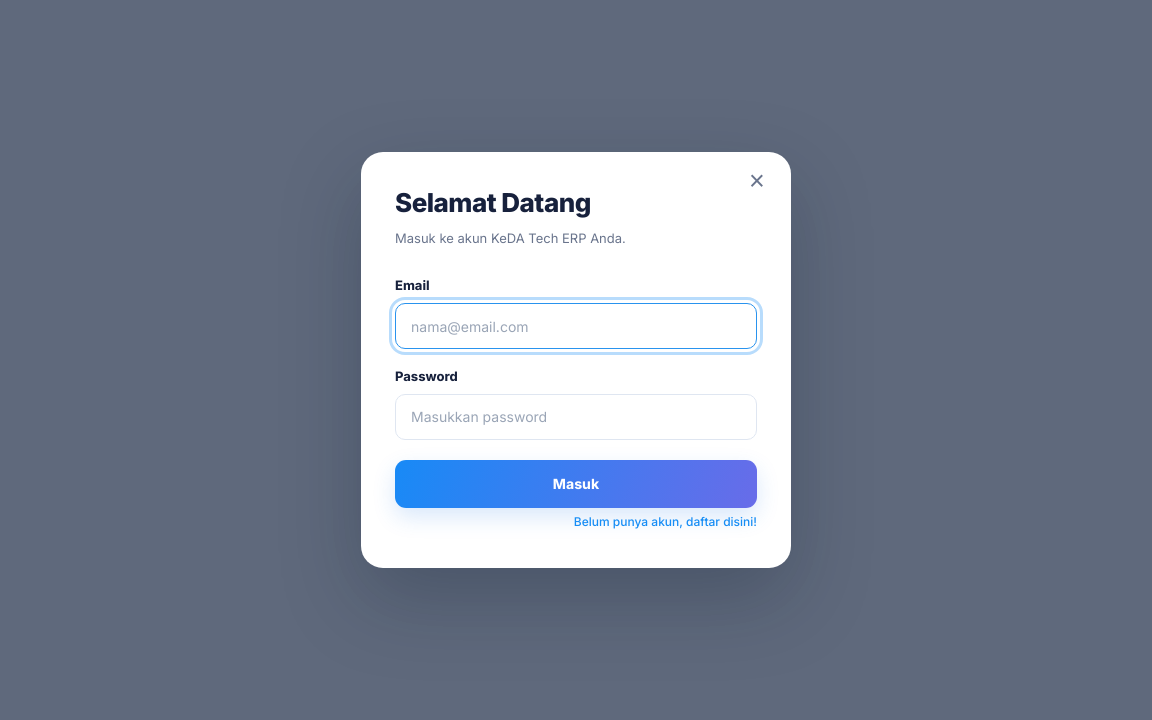
it: LoginModal › should show login success message
The width and height of the screenshot is (1152, 720).
Type "test@example.com" into the field labelled "Email" at (576, 326), box [395,303,757,349]
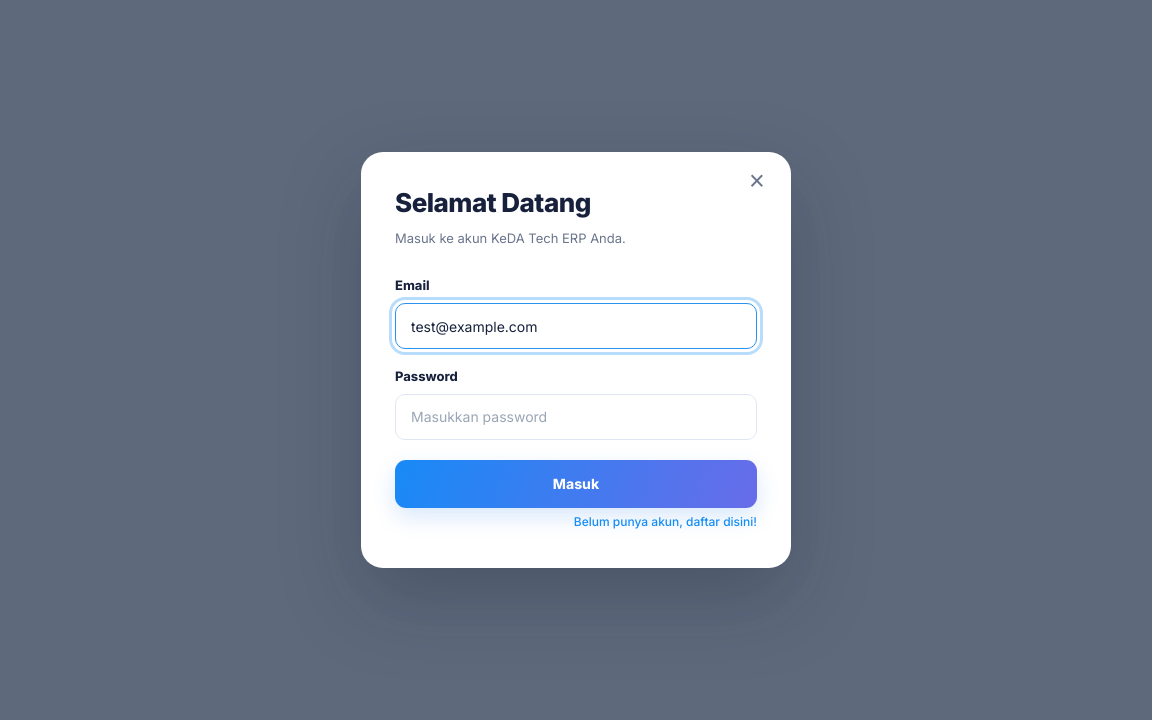
Type "password123" into the password field labelled "Password" at (576, 417), box [395,394,757,440]
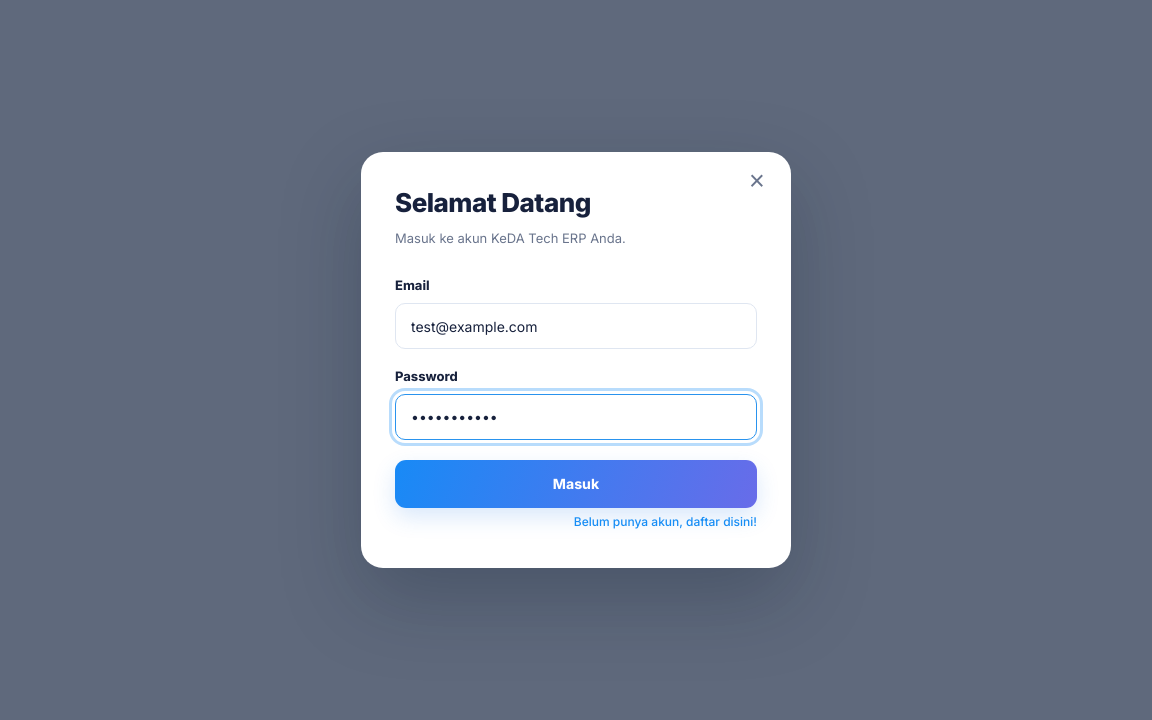
Click the button "Masuk" at (576, 484), box [395,460,757,508]
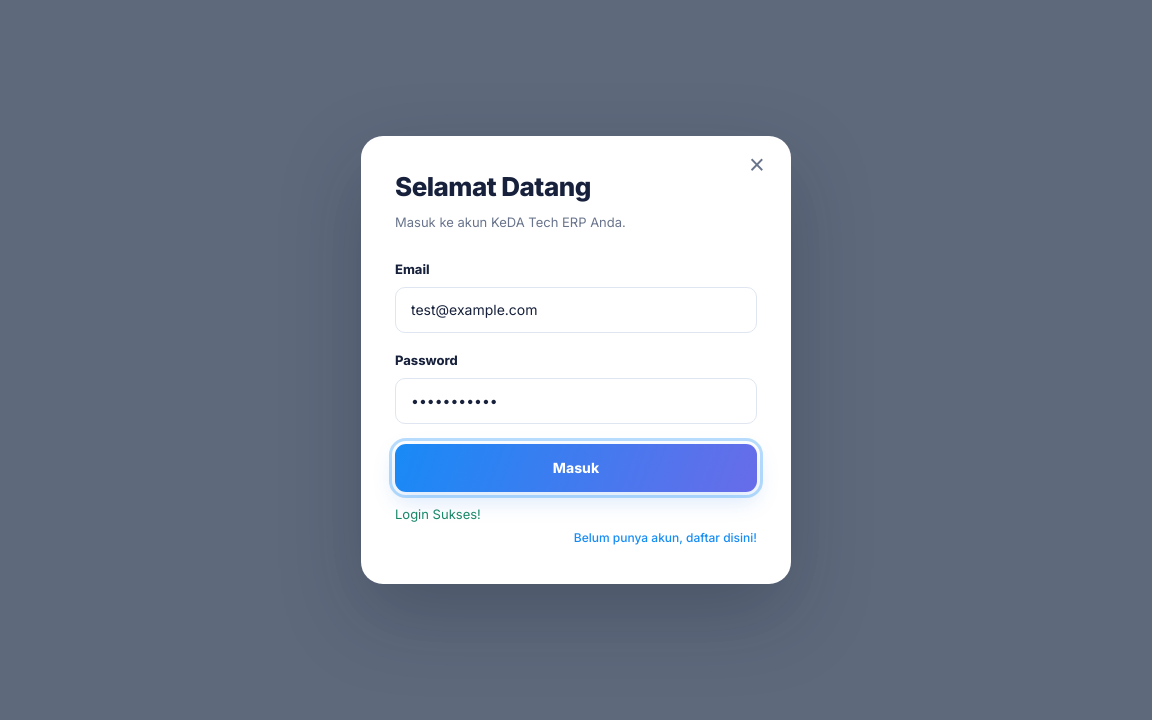
Result: the message reads "Login Sukses!" at [395,506,481,522]
